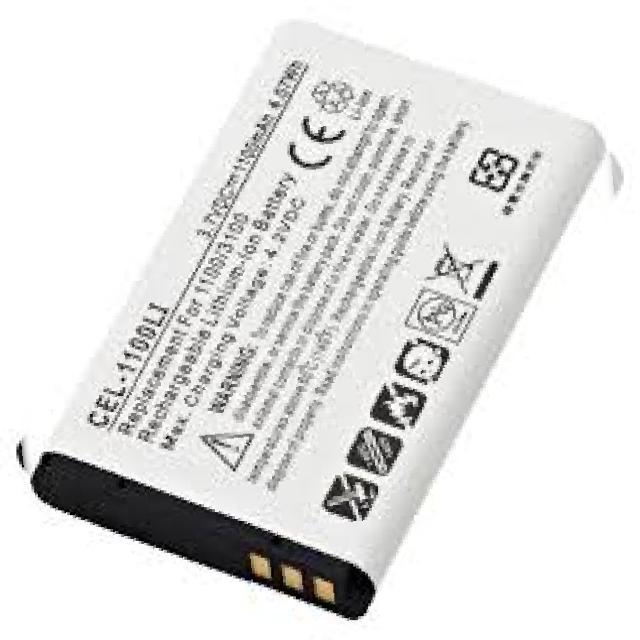Battery: (30, 3, 605, 640)
